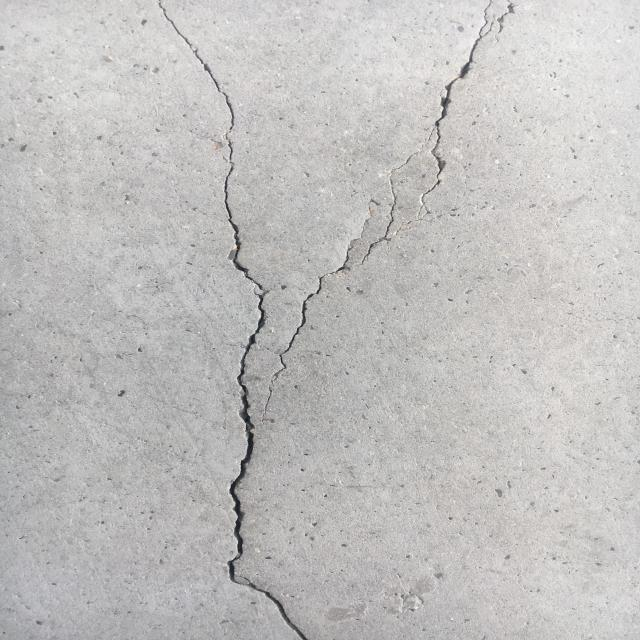SurfaceCrack: (135, 1, 328, 640), (270, 0, 544, 427)
